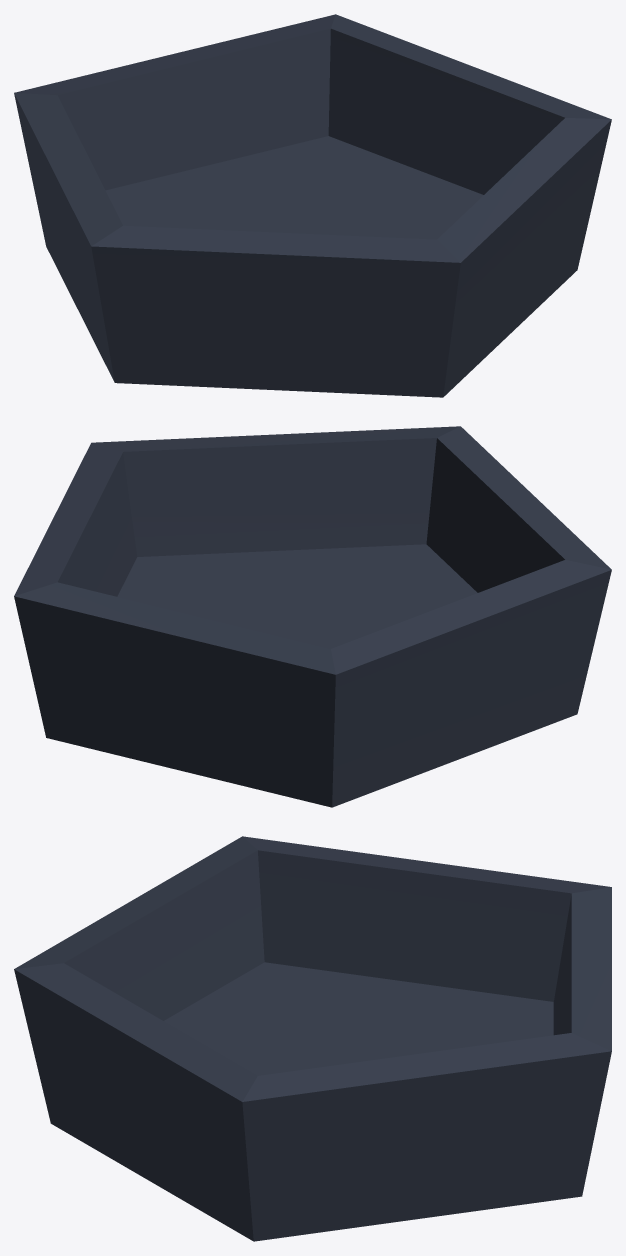
The model's file is Ashtray_1_B.fbx.
3 views of the same model, one above another, from view 1: azimuth 30°, elevation 25°; view 2: azimuth 150°, elevation 25°; view 3: azimuth 270°, elevation 25° (orthographic). The views are drawn at different scales.
Parts seen in each view (by area): view 1: Ashtray_1_B; view 2: Ashtray_1_B; view 3: Ashtray_1_B.
Part boxes in pixels (box(x1,y1,x2,y2)): Ashtray_1_B: box(14, 14, 611, 397); Ashtray_1_B: box(14, 426, 611, 807); Ashtray_1_B: box(14, 836, 611, 1241).
Size of the model in its own units: 18.72 by 5.27 by 17.8.
